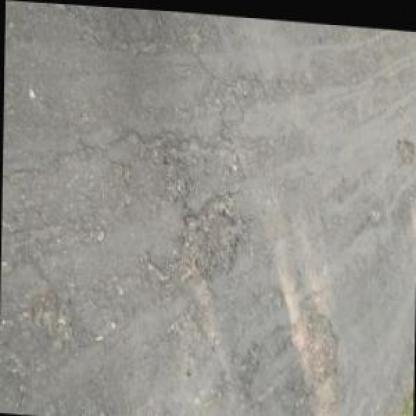pothole: (175, 193, 245, 287), (304, 308, 338, 380), (392, 130, 414, 164)
